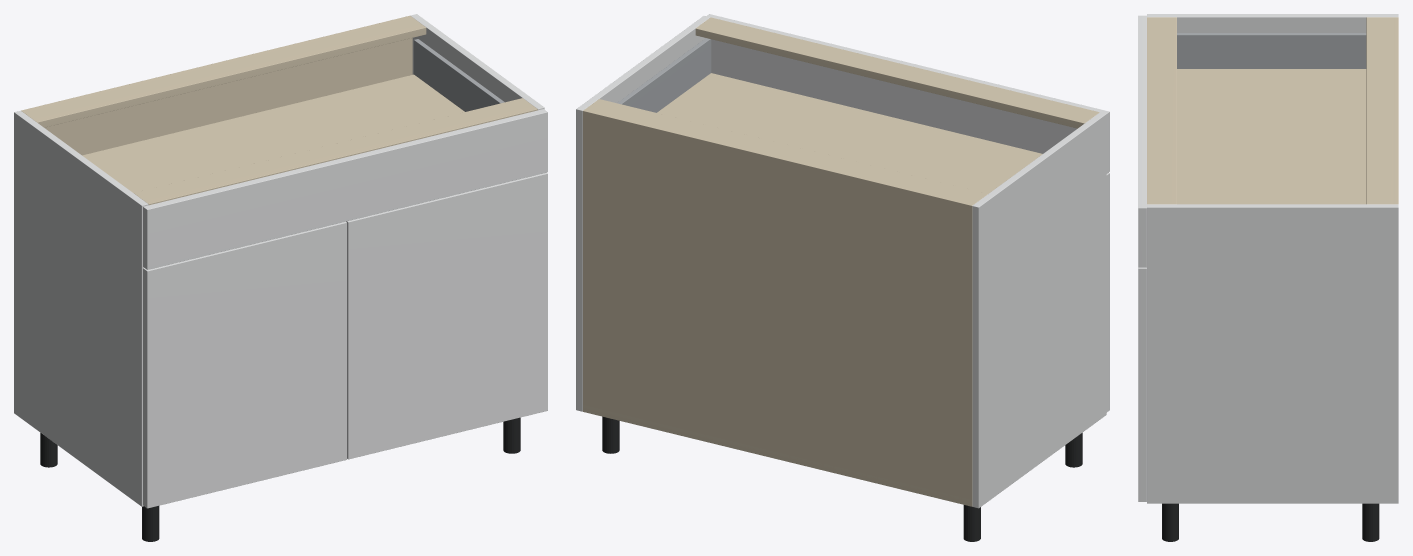
Rendered from oppein-ply-pgw-b42.glb.
The picture shows the model from 3 angles, left to right: view 1: azimuth 30°, elevation 25°; view 2: azimuth 150°, elevation 25°; view 3: azimuth 270°, elevation 25°; orthographic projection.
Visible parts, largest first — view 1: Door, Door.001, Cabinet side, Drawer front, Drawer floor, Cabinet back, Top support rail, Top support rail.001, Drawer side.001, Cabinet side.001; view 2: Cabinet back, Cabinet side, Drawer floor, Drawer front, Top support rail.001, Top support rail, Cabinet side.001, Drawer side.001, Cabinet bottom, Door, Adjustable foot, Adjustable foot.002; view 3: Cabinet side.001, Drawer floor, Drawer side, Top support rail.001, Top support rail, Cabinet side, Drawer front, Door.001, Cabinet back, Adjustable foot.002, Adjustable foot.003.
Part boxes in pixels (bbox=[...]): Door: bbox=[143, 221, 346, 508]; Door.001: bbox=[346, 172, 547, 459]; Cabinet side: bbox=[14, 110, 148, 506]; Drawer front: bbox=[143, 109, 547, 269]; Drawer floor: bbox=[82, 74, 464, 192]; Cabinet back: bbox=[21, 15, 412, 155]; Top support rail: bbox=[23, 17, 426, 127]; Top support rail.001: bbox=[134, 98, 537, 205]; Drawer side.001: bbox=[414, 39, 504, 111]; Cabinet side.001: bbox=[410, 14, 544, 110]; Cabinet back: bbox=[583, 109, 973, 506]; Cabinet side: bbox=[972, 112, 1106, 508]; Drawer floor: bbox=[657, 73, 1042, 193]; Drawer front: bbox=[706, 14, 1109, 173]; Top support rail.001: bbox=[695, 17, 1099, 128]; Top support rail: bbox=[586, 99, 987, 204]; Cabinet side.001: bbox=[576, 16, 710, 411]; Drawer side.001: bbox=[617, 38, 711, 112]; Cabinet bottom: bbox=[583, 405, 971, 505]; Door: bbox=[1106, 172, 1109, 412]; Adjustable foot: bbox=[963, 505, 980, 541]; Adjustable foot.002: bbox=[602, 416, 619, 453]; Cabinet side.001: bbox=[1147, 204, 1398, 503]; Drawer floor: bbox=[1177, 69, 1366, 204]; Drawer side: bbox=[1177, 33, 1366, 68]; Top support rail.001: bbox=[1147, 17, 1176, 204]; Top support rail: bbox=[1366, 17, 1393, 204]; Cabinet side: bbox=[1147, 14, 1398, 32]; Drawer front: bbox=[1138, 15, 1146, 267]; Door.001: bbox=[1138, 267, 1146, 501]; Cabinet back: bbox=[1393, 17, 1398, 204]; Adjustable foot.002: bbox=[1362, 503, 1379, 541]; Adjustable foot.003: bbox=[1162, 503, 1178, 541].
Size of the model in its own units: 1.07 by 0.8763 by 0.6064.
